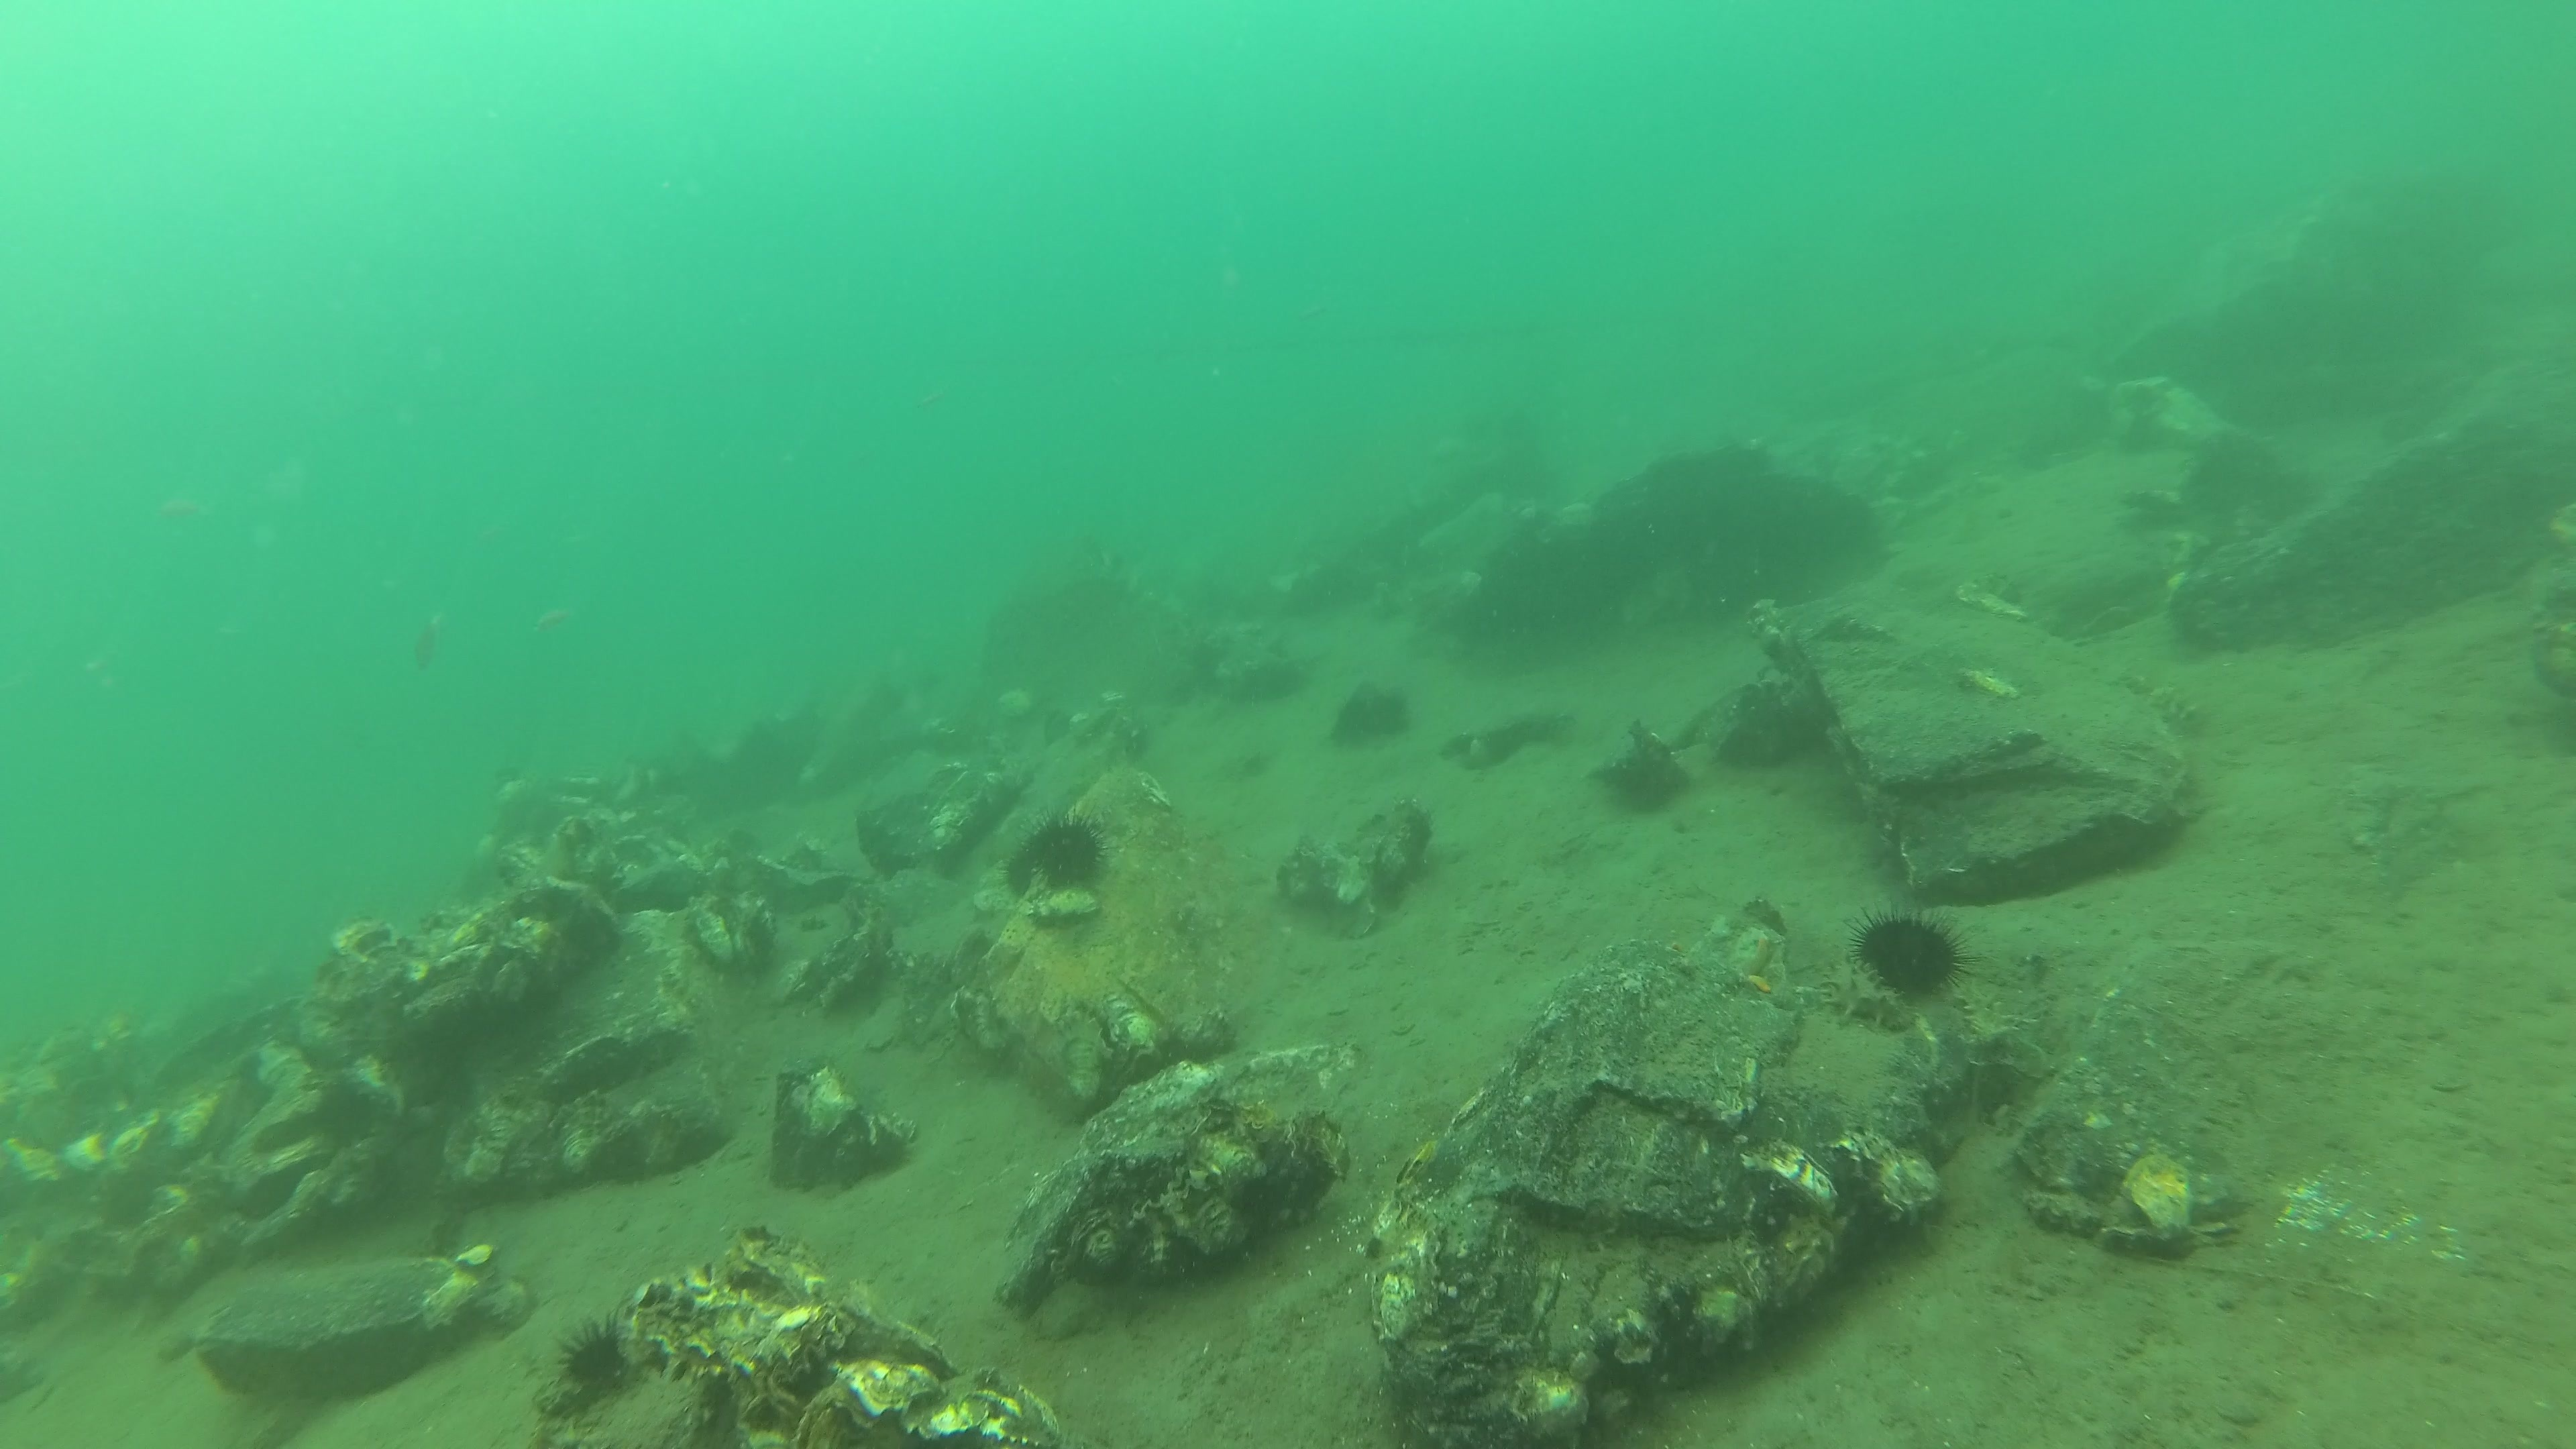echinus: (1845, 899, 1985, 1010), (1005, 823, 1108, 892), (547, 1316, 628, 1396)
